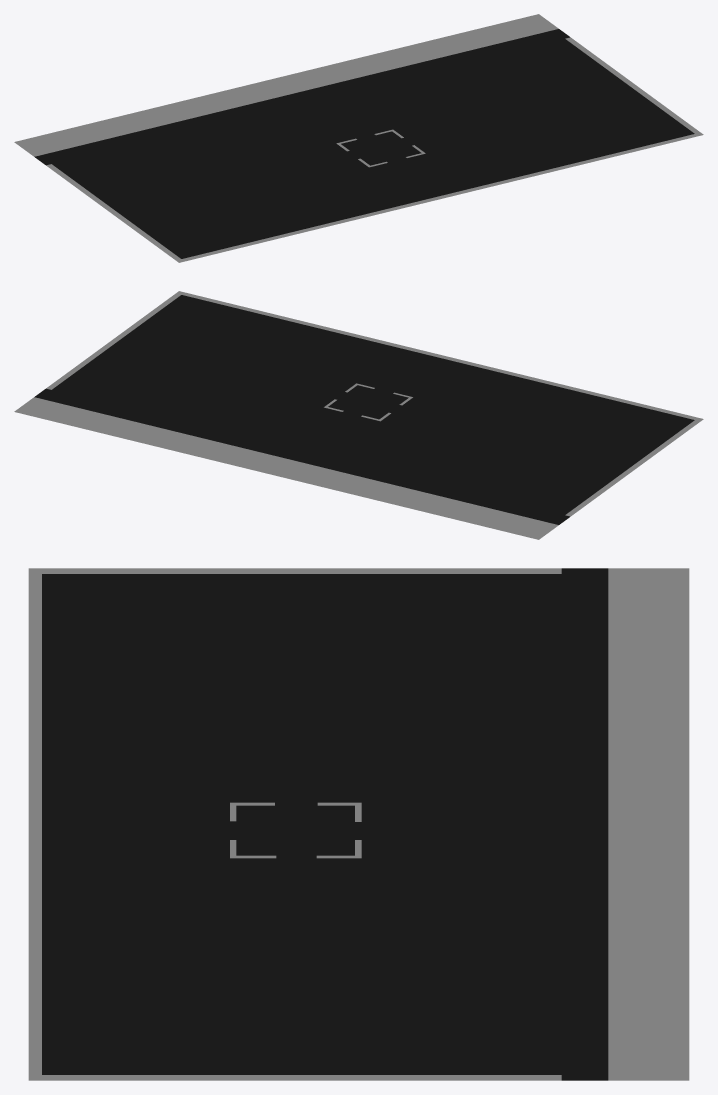
File: cpsMap_PLotPlane.obj
3 views of the same model, one above another, from view 1: azimuth 30°, elevation 25°; view 2: azimuth 150°, elevation 25°; view 3: azimuth 270°, elevation 25° (orthographic). The views are drawn at different scales.
Parts seen in each view (by area): view 1: ParkingLot_Plane; view 2: ParkingLot_Plane; view 3: ParkingLot_Plane.
Part boxes in pixels (bbox=[...]): ParkingLot_Plane: bbox=[14, 14, 703, 262]; ParkingLot_Plane: bbox=[14, 291, 703, 539]; ParkingLot_Plane: bbox=[28, 568, 689, 1080].
Size of the model in its own units: 365 by 0.0208 by 199.
